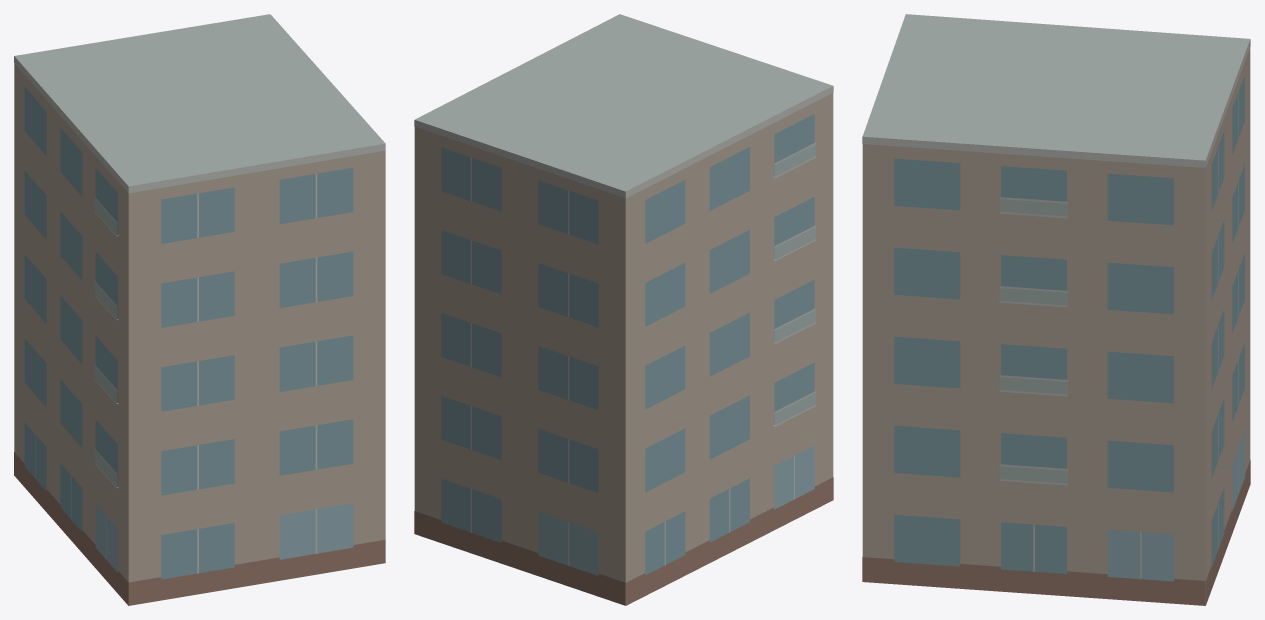
The model's file is survey-upis-32641789.glb.
The picture shows the model from 3 angles, left to right: view 1: azimuth 30°, elevation 25°; view 2: azimuth 150°, elevation 25°; view 3: azimuth 270°, elevation 25°; orthographic projection. The views are drawn at different scales.
Parts seen in each view (by area): view 1: survey-upis-32641789.tmp; view 2: survey-upis-32641789.tmp; view 3: survey-upis-32641789.tmp.
Part boxes in pixels (box(x1,y1,x2,y2)): survey-upis-32641789.tmp: box(14, 14, 385, 605); survey-upis-32641789.tmp: box(414, 14, 833, 605); survey-upis-32641789.tmp: box(862, 14, 1250, 605).
Size of the model in its own units: 10.46 by 14.8 by 11.7.
